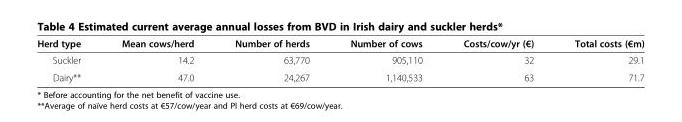table: (36, 37, 643, 82)
table column: (213, 37, 329, 82), (100, 37, 213, 82), (329, 37, 442, 82), (442, 37, 553, 82), (553, 37, 643, 82), (36, 37, 100, 82)
table column header: (36, 37, 643, 51)
table row: (36, 51, 643, 68), (36, 37, 643, 51), (36, 68, 643, 82)
